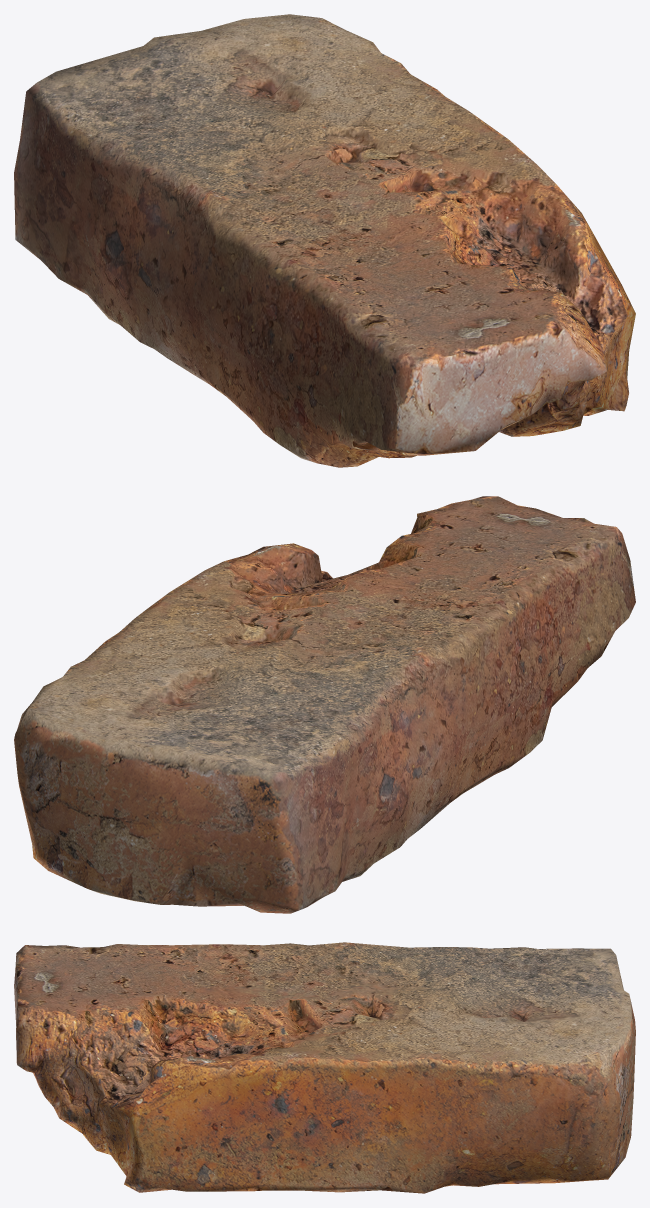
Rendered from sm_Brick_03_01.fbx.
3 views of the same model, one above another, from view 1: azimuth 30°, elevation 25°; view 2: azimuth 150°, elevation 25°; view 3: azimuth 270°, elevation 25° (orthographic). The views are drawn at different scales.
Visible parts, largest first — view 1: sm_Brick_03_01_LOD0; view 2: sm_Brick_03_01_LOD0; view 3: sm_Brick_03_01_LOD0.
Boxes of the visible parts, left/top/right/bottom form: sm_Brick_03_01_LOD0: left=14, top=14, right=635, bottom=467; sm_Brick_03_01_LOD0: left=14, top=496, right=635, bottom=913; sm_Brick_03_01_LOD0: left=14, top=942, right=635, bottom=1193.
Size of the model in its own units: 12.41 by 25.73 by 6.74.
